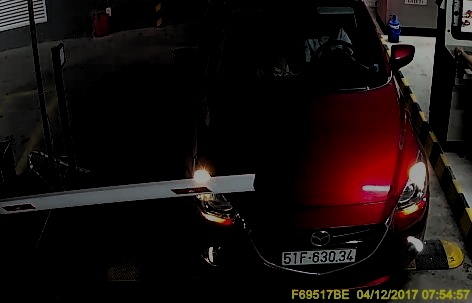plate: (278, 241, 364, 266)
